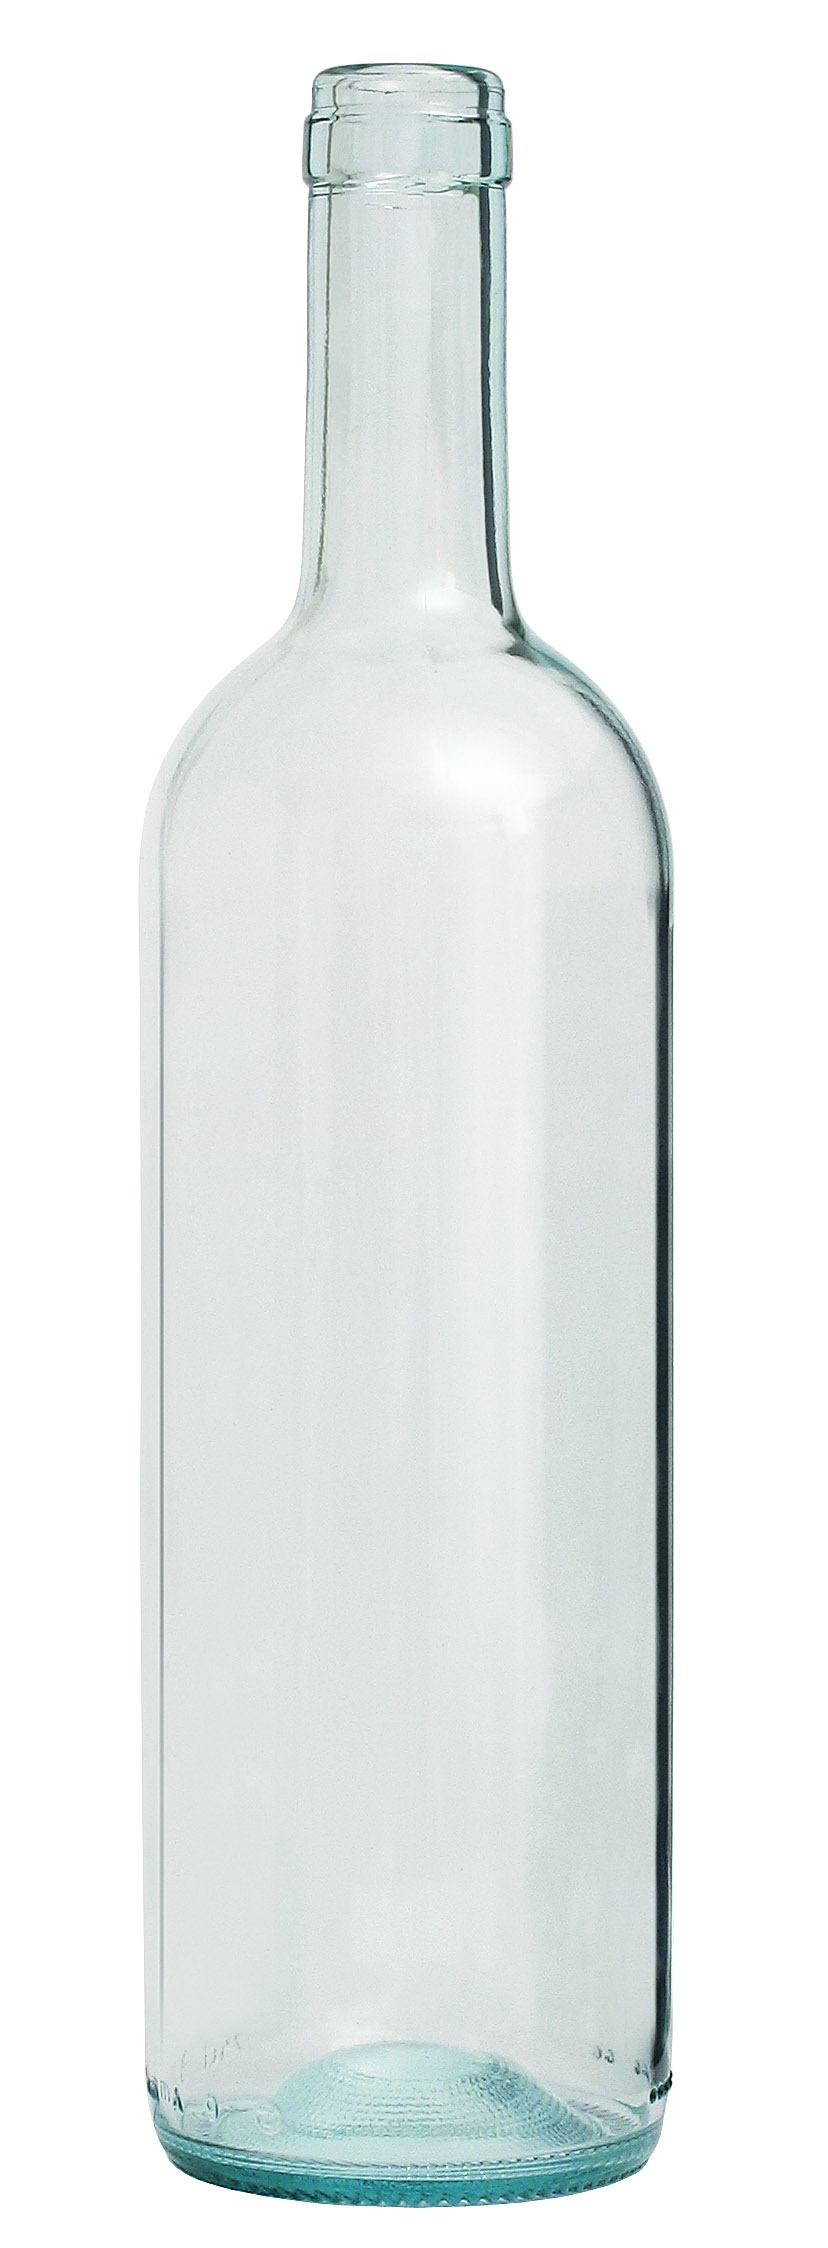emptybottle: (140, 69, 670, 2204)
